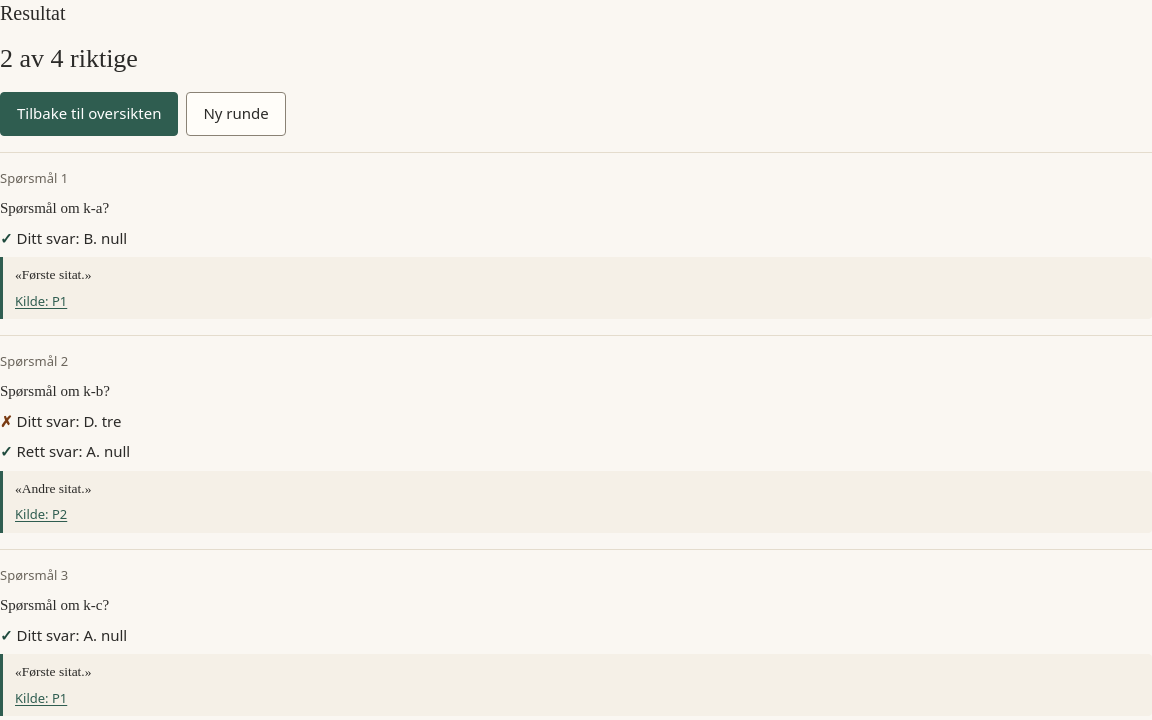
Test case: ResultScreen › a failed progress read (or a throw) is a failure too, never thrown
Later steps or results of the test are not shown.
Click the button "Ny runde".
click(236, 114)  # box top-left (186, 92), bottom-right (286, 136)
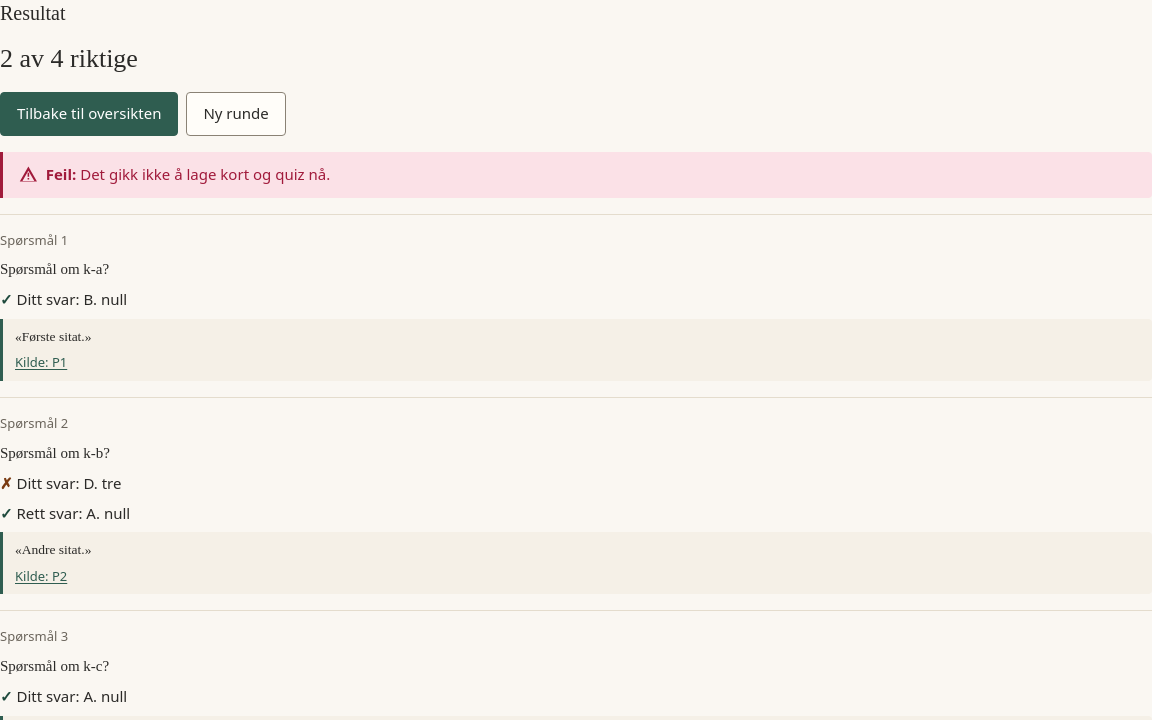
Now the message "Feil: Det gikk ikke å lage kort og quiz nå." is shown, box top-left (0, 152), bottom-right (1151, 198)
